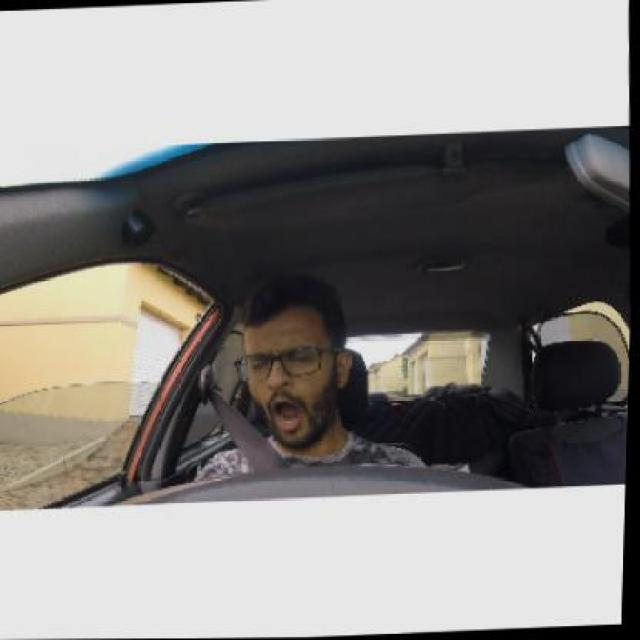drowsy: (234, 300, 356, 448)
